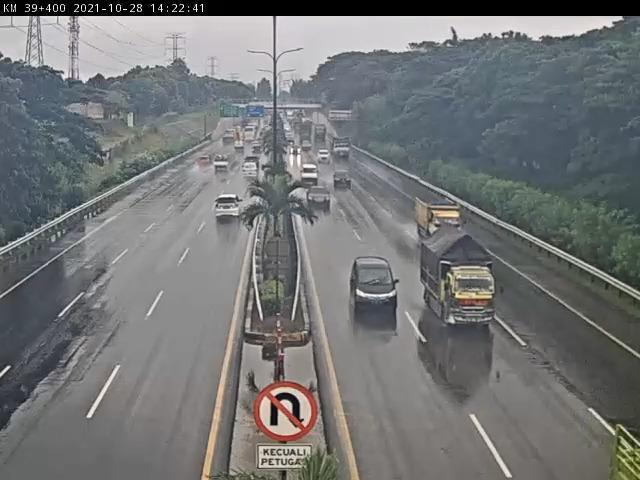car: (349, 255, 398, 309), (211, 193, 245, 225), (306, 185, 333, 210), (302, 161, 321, 182), (333, 171, 353, 189), (241, 165, 262, 182), (212, 157, 231, 174), (242, 156, 261, 171), (198, 156, 213, 170)
truck: (422, 236, 500, 334), (415, 193, 463, 235), (331, 135, 353, 161)
